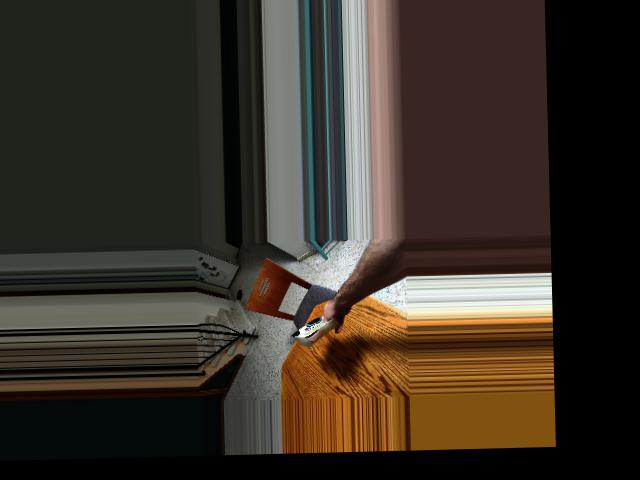cheese: (289, 312, 340, 348)
